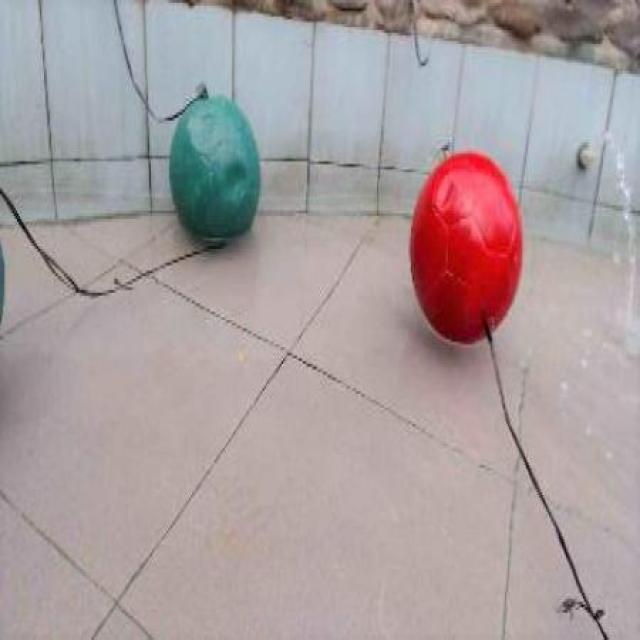buoy: (409, 152, 524, 346), (168, 94, 260, 240)
